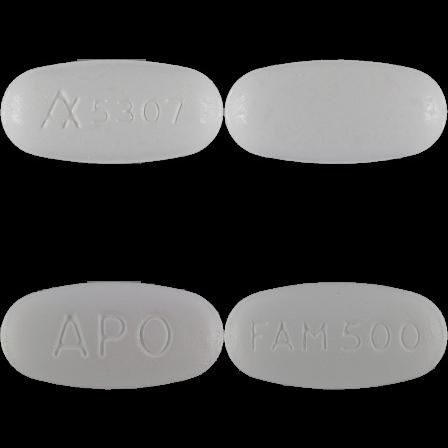60505-5307: (0, 0, 224, 224)
